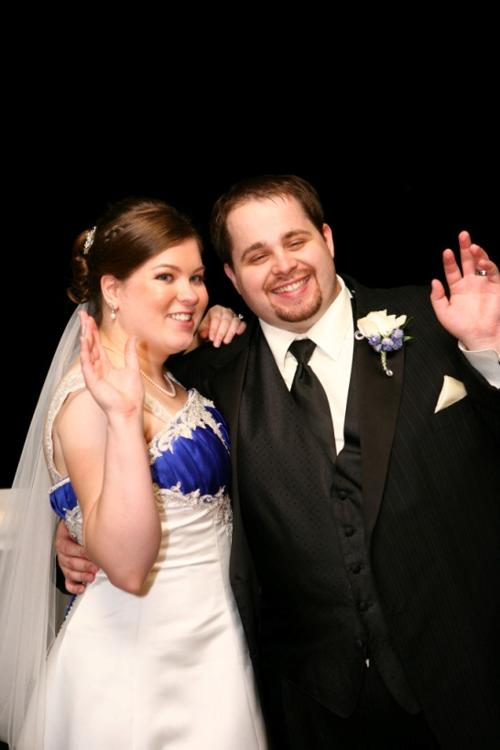person: (49, 203, 267, 750)
